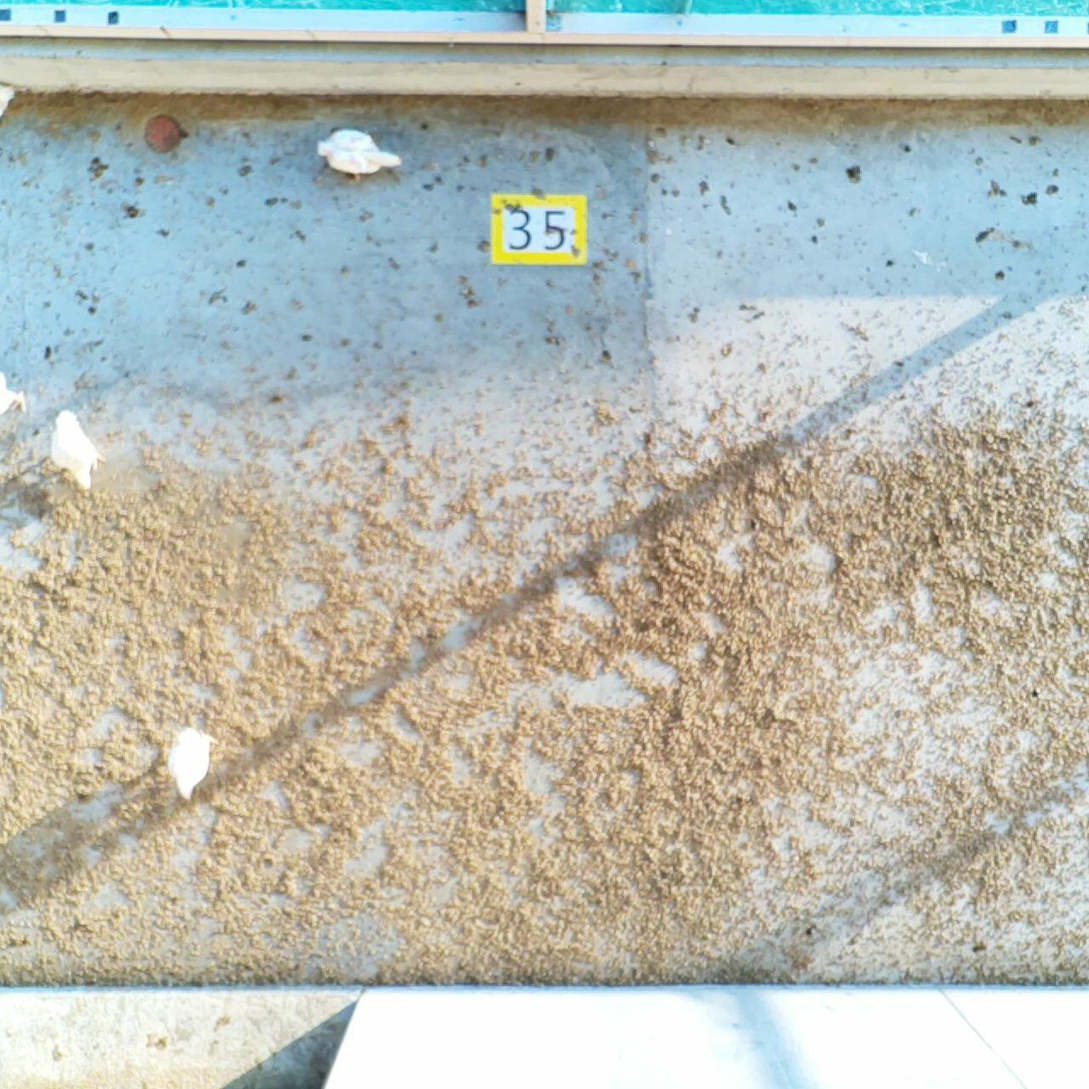chicken: (318, 128, 400, 178), (51, 412, 100, 487), (172, 731, 208, 797), (2, 368, 25, 417), (0, 83, 15, 126)
